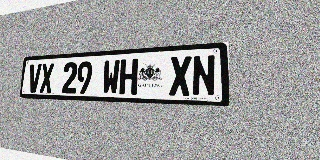2: (62, 62, 78, 93)
9: (76, 61, 93, 94)
H: (119, 59, 138, 95)
N: (192, 54, 216, 97)
V: (28, 64, 42, 93)
W: (102, 59, 120, 94)
X: (169, 56, 191, 96), (39, 63, 54, 93)
